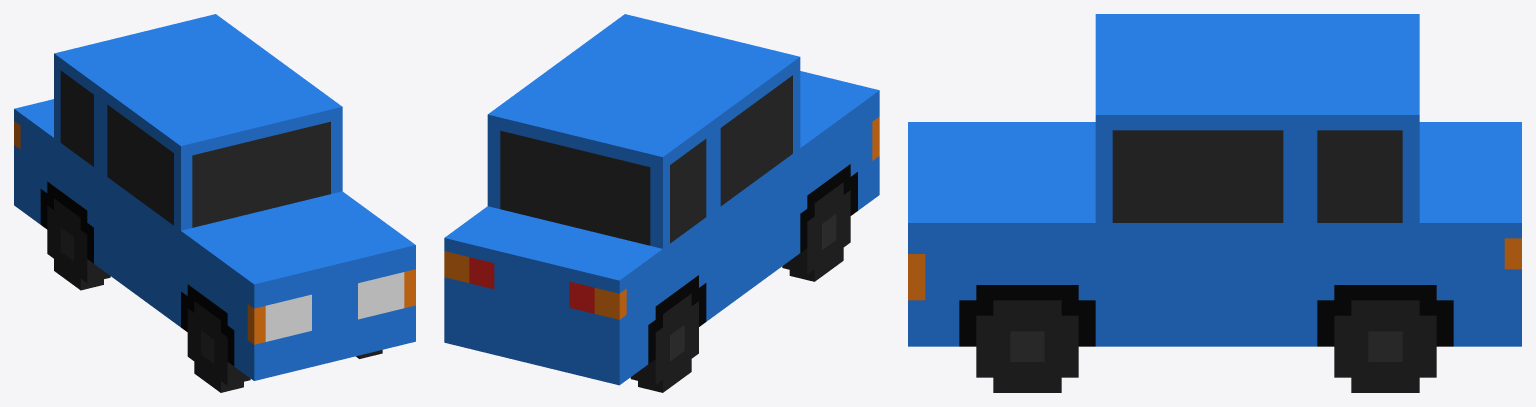
The model's file is kit-voxel-standard-blue.glb.
3 renders of one model, left to right at view 1: azimuth 30°, elevation 25°; view 2: azimuth 150°, elevation 25°; view 3: azimuth 270°, elevation 25°, orthographic. The views are drawn at different scales.
Parts seen in each view (by area): view 1: geometry_1; view 2: geometry_1; view 3: geometry_1.
Part boxes in pixels (<box>): geometry_1: <box>14,14,415,392</box>; geometry_1: <box>444,14,879,392</box>; geometry_1: <box>908,14,1521,392</box>.
Size of the model in its own units: 1.4 by 1.8 by 3.6.
Materials: 1 (1 with a texture image).
